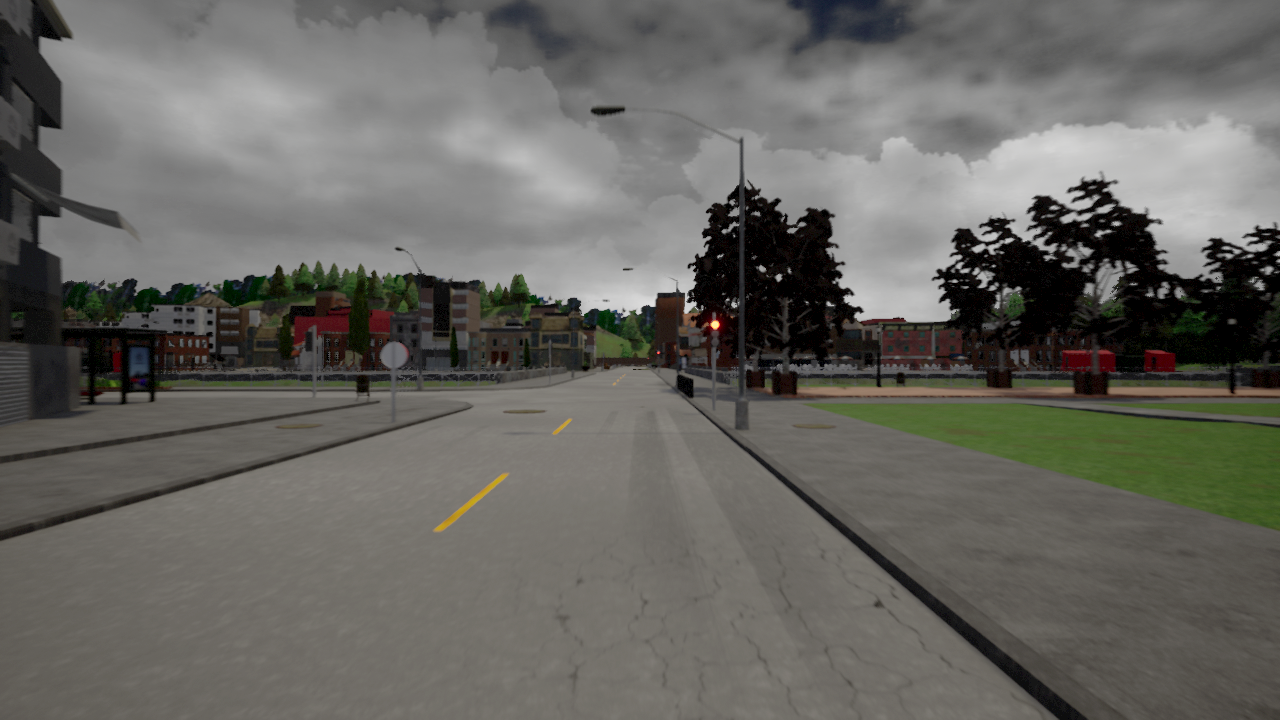red: (709, 319, 721, 348)
